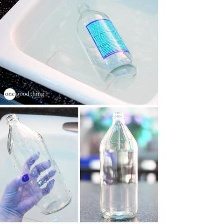bottle: (2, 113, 75, 216), (69, 0, 141, 90), (98, 110, 142, 221)
